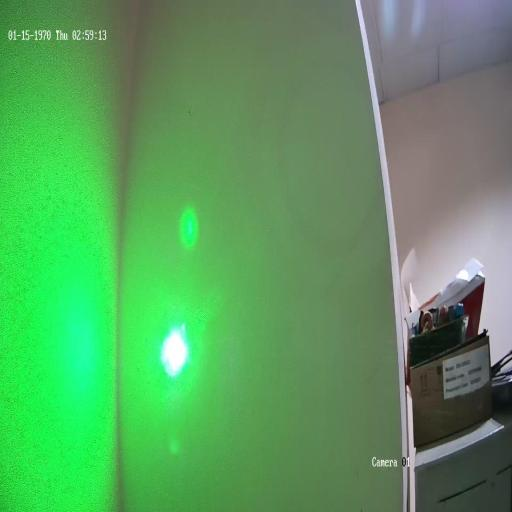laser: (147, 302, 200, 392)
